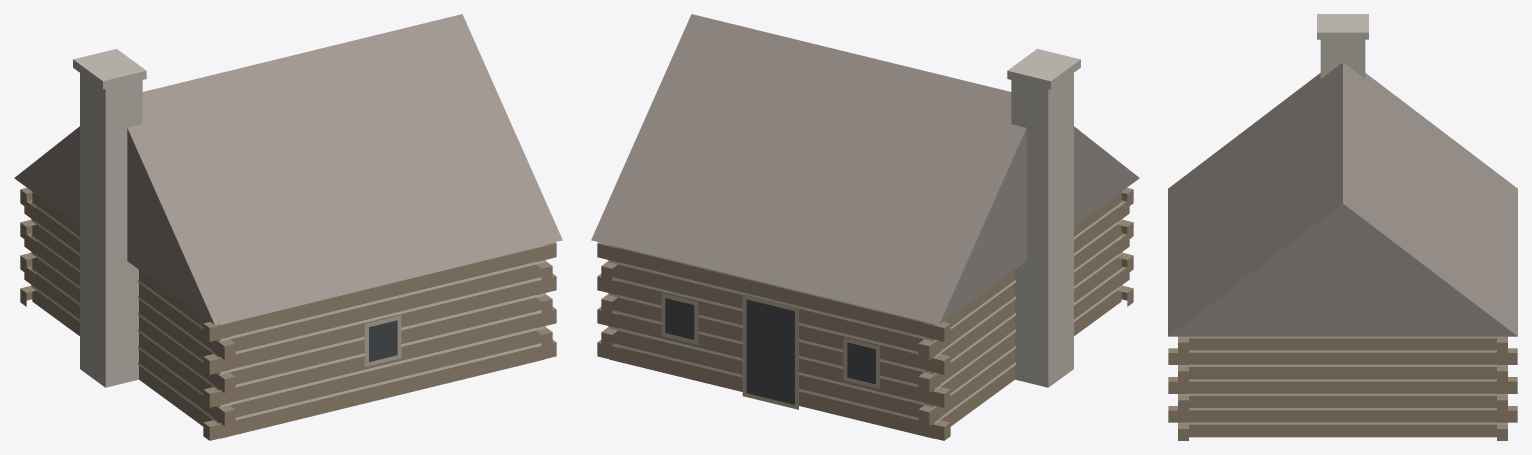
File: walker_meeting_house__log_1831.glb
3 renders of one model, left to right at view 1: azimuth 30°, elevation 25°; view 2: azimuth 150°, elevation 25°; view 3: azimuth 270°, elevation 25°, orthographic. The views are drawn at different scales.
Visible parts, largest first — view 1: walker_meeting_house__log_1831; view 2: walker_meeting_house__log_1831; view 3: walker_meeting_house__log_1831.
Part boxes in pixels (x1,y1,x2,y2): walker_meeting_house__log_1831: [14, 14, 562, 440]; walker_meeting_house__log_1831: [591, 14, 1139, 440]; walker_meeting_house__log_1831: [1168, 14, 1517, 440].
Bounding box in the file's own units: 8.07 × 6.43 × 7.5.
